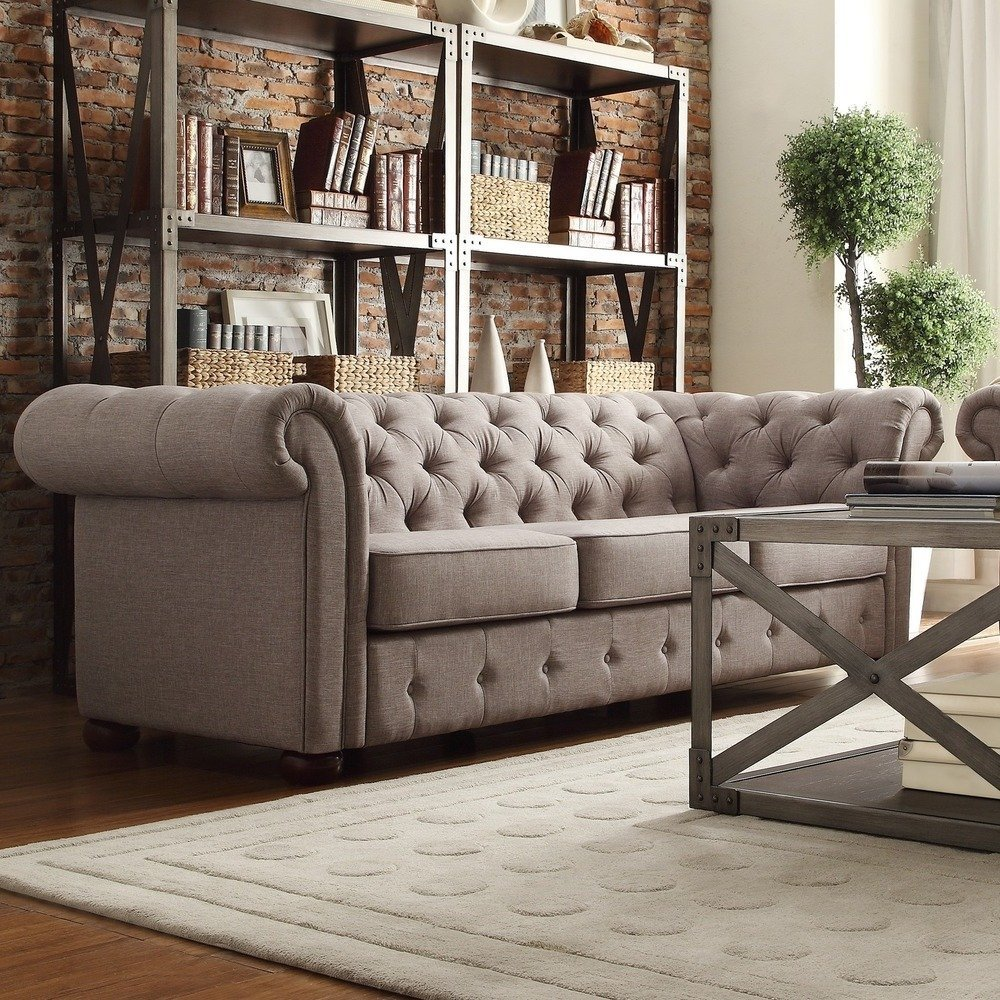chairs: (15, 371, 950, 769)
